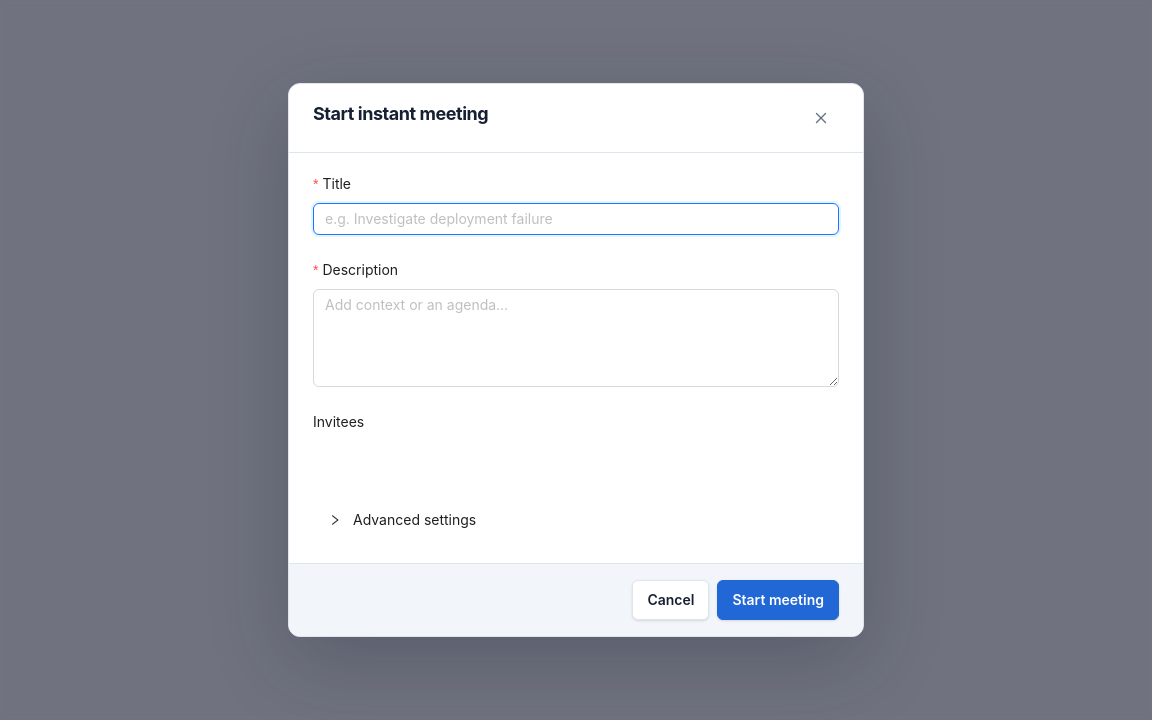
Test: StartInstantMeetingModal result handling › blocks submission when the description is blank
Type "Incident sync" into the field with placeholder "e.g. Investigate deployment failure". click: coordinates (576, 219)
box: [313, 203, 839, 235]
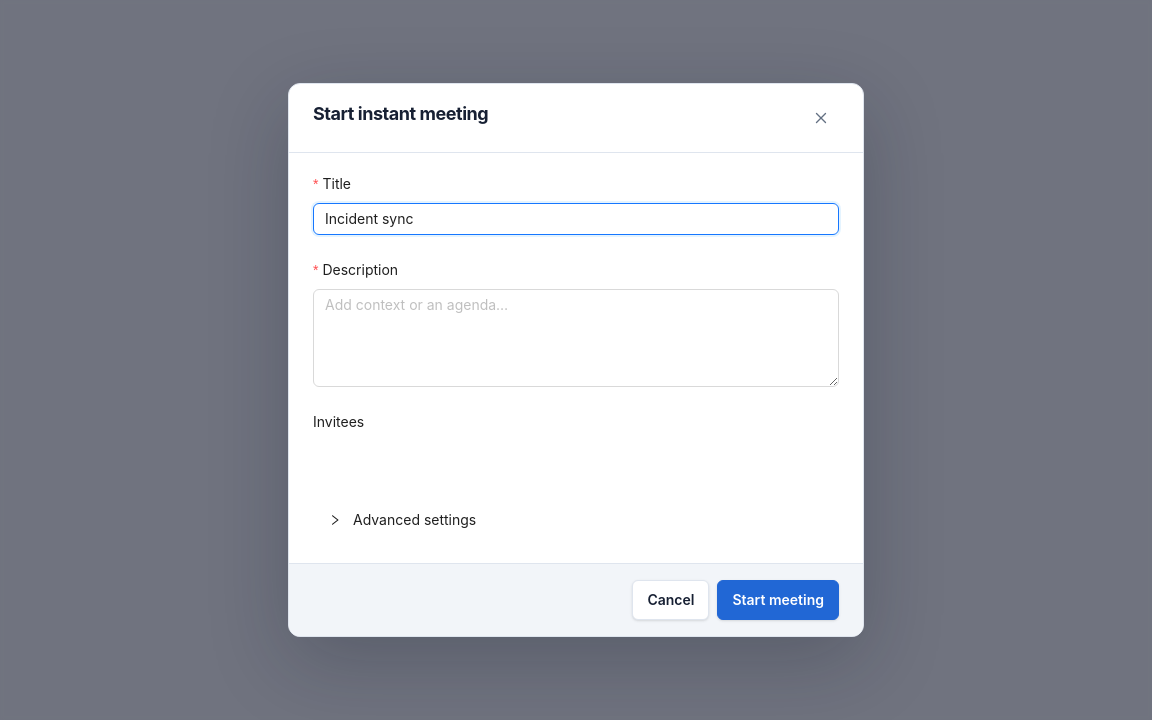
Click the button "Start meeting". click: coordinates (778, 600)
box: [718, 580, 839, 620]
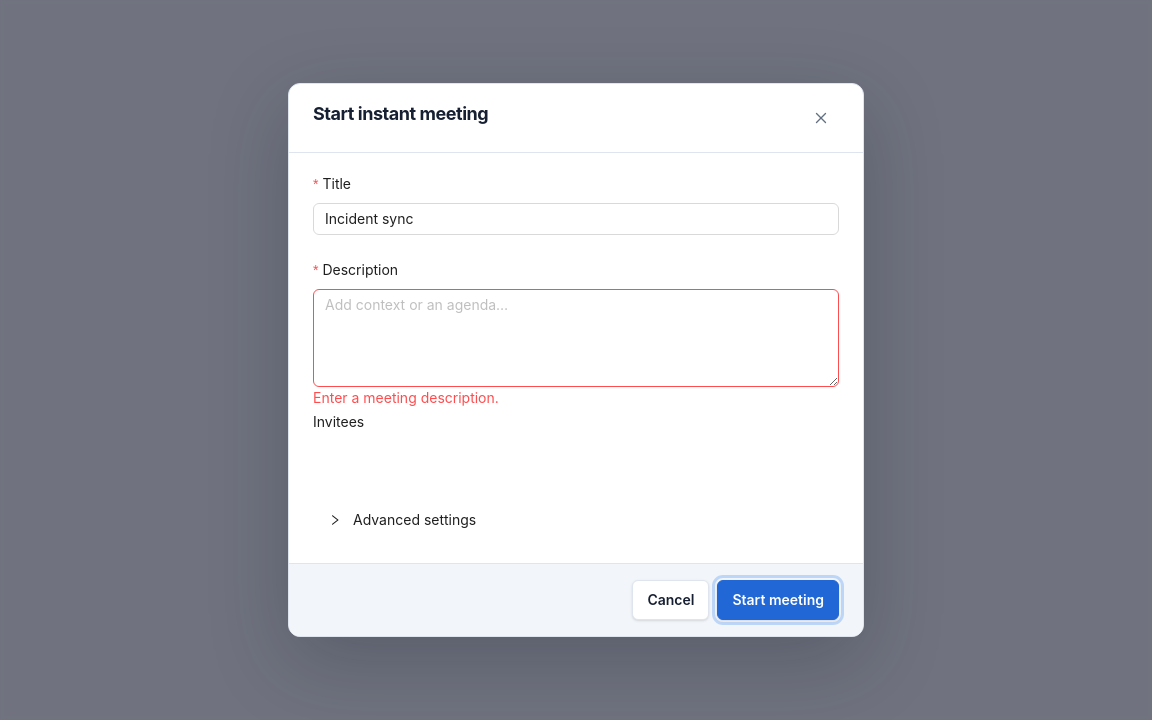
Expected: the text "Enter a meeting description." is shown, [313, 389, 499, 406]
